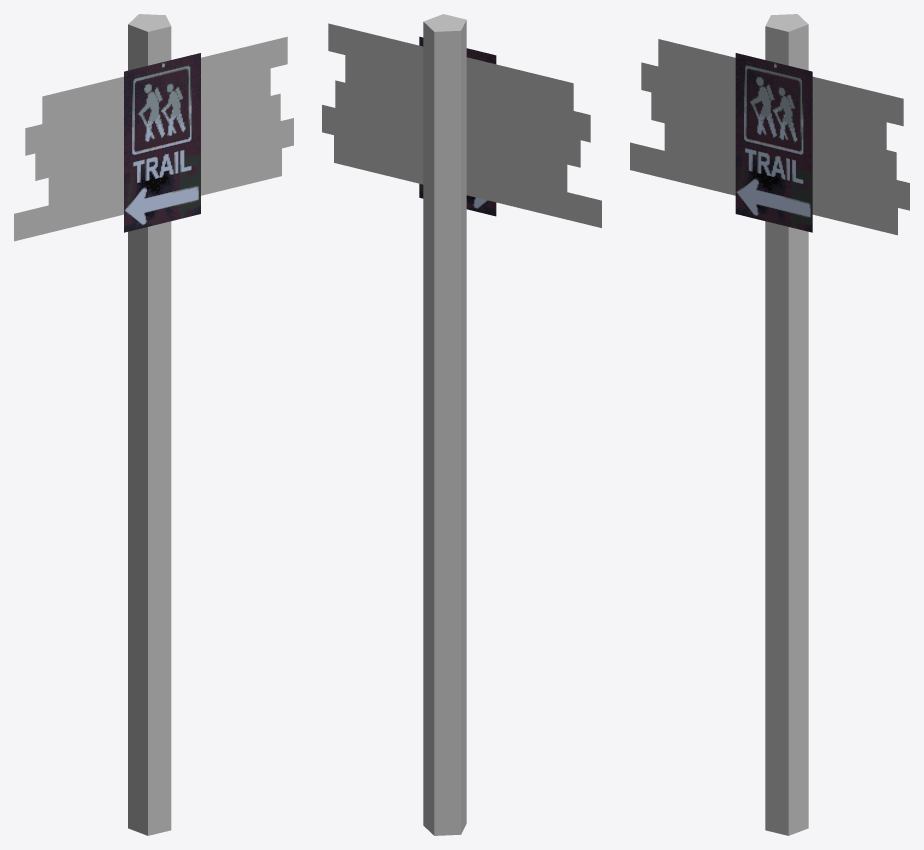
File: placahiking.fbx
The picture shows the model from 3 angles, left to right: view 1: azimuth 30°, elevation 25°; view 2: azimuth 150°, elevation 25°; view 3: azimuth 330°, elevation 25°; orthographic projection.
Visible parts, largest first — view 1: trail; view 2: trail; view 3: trail.
Boxes of the visible parts, box(x1,y1,x2,y2) form: trail: box(14, 14, 293, 835); trail: box(322, 14, 601, 835); trail: box(630, 14, 909, 835).
Bounding box in the file's own units: 386 × 1059 × 55.8.
